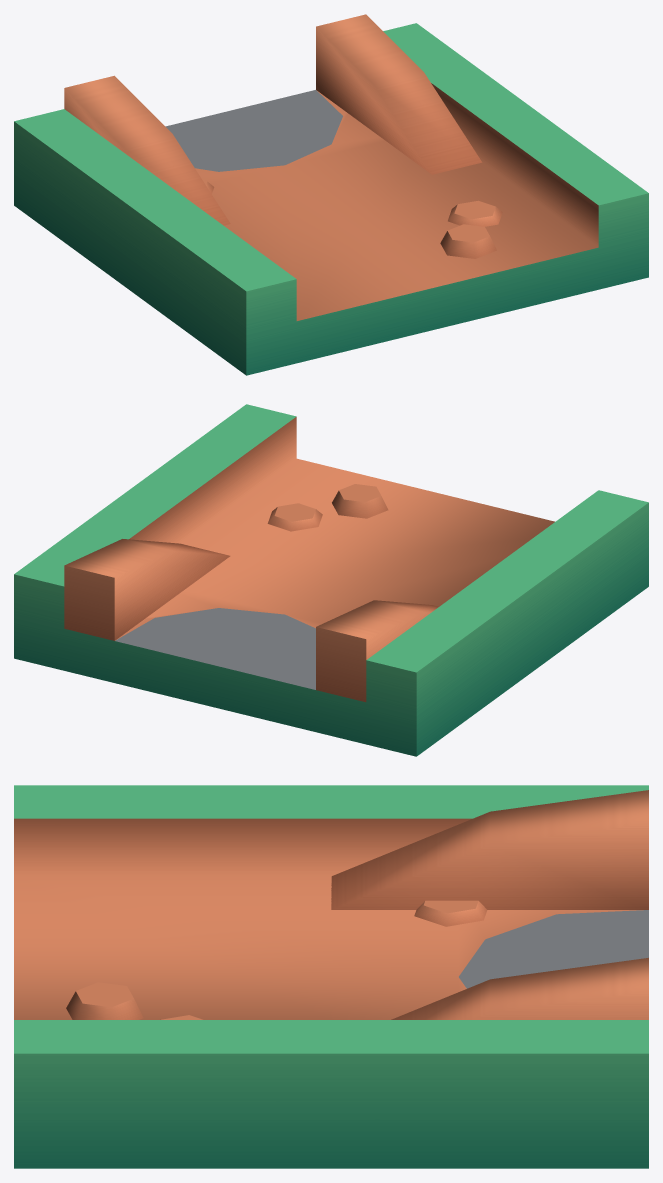
File: tile-river-transition.fbx
3 views of the same model, one above another, from view 1: azimuth 30°, elevation 25°; view 2: azimuth 150°, elevation 25°; view 3: azimuth 270°, elevation 25° (orthographic). The views are drawn at different scales.
Visible parts, largest first — view 1: tile-river-transition; view 2: tile-river-transition; view 3: tile-river-transition.
Part boxes in pixels (left/top/right/bottom): tile-river-transition: left=14, top=14, right=648, bottom=375; tile-river-transition: left=14, top=404, right=648, bottom=756; tile-river-transition: left=14, top=785, right=648, bottom=1168.
Size of the model in its own units: 100 by 25 by 100.
